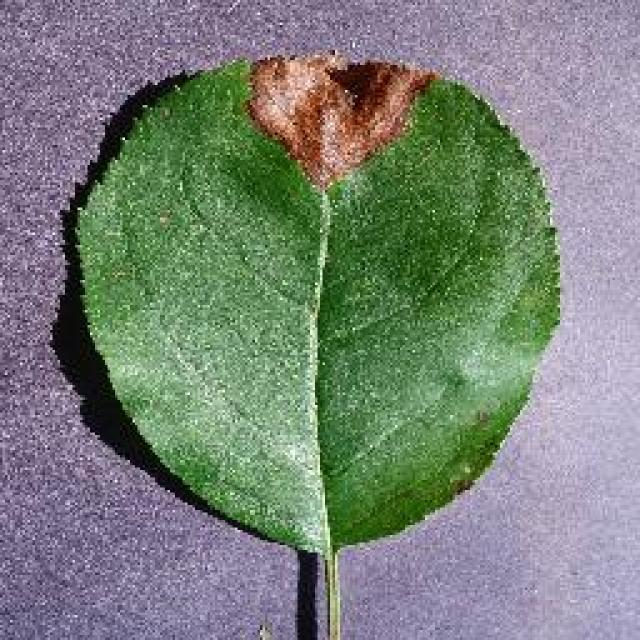Apple___Black_rot: (71, 46, 566, 558)
